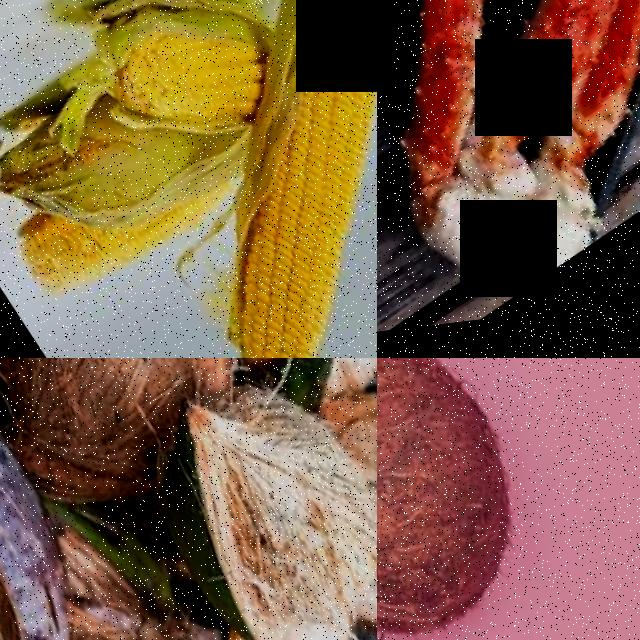coconut: (377, 358, 577, 640), (0, 358, 224, 521), (186, 358, 377, 433)
corn: (225, 0, 377, 264), (168, 185, 377, 358), (99, 0, 278, 167)
crab: (430, 0, 640, 207), (377, 0, 553, 199)
